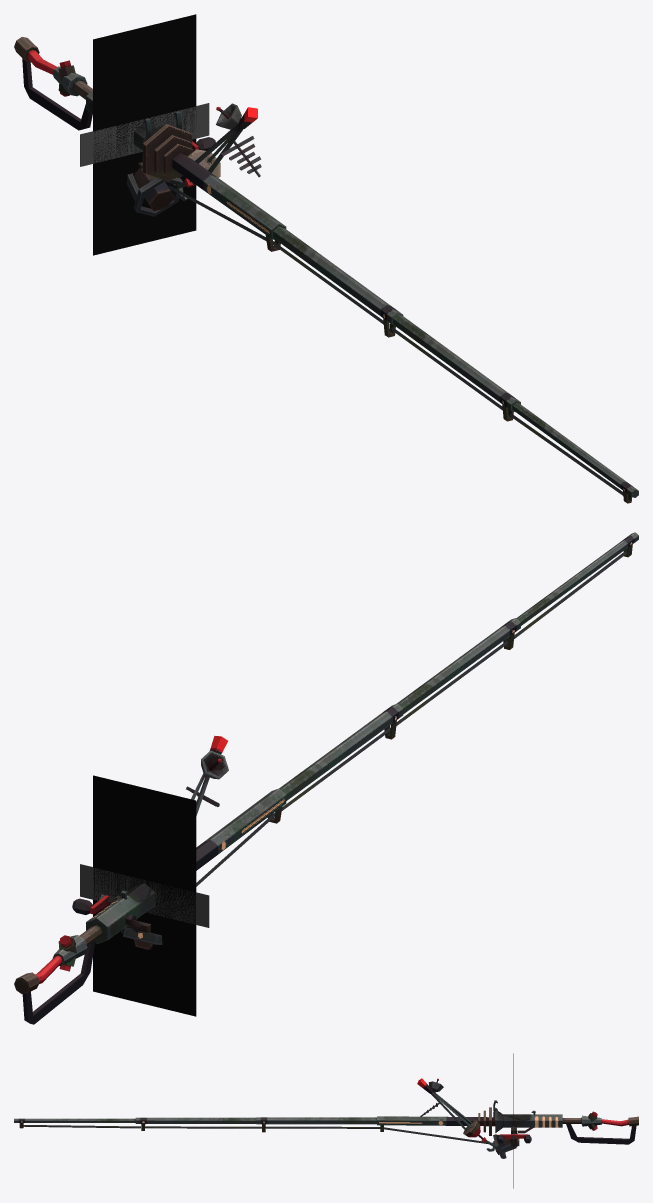
File: item_special_fishing_rod.glb
The picture shows the model from 3 angles, top to bottom: view 1: azimuth 30°, elevation 25°; view 2: azimuth 150°, elevation 25°; view 3: azimuth 270°, elevation 25°; orthographic projection. The views are drawn at different scales.
Parts seen in each view (by area): view 1: Cube (×3), Special_FishingRod_submesh_0, Special_Bobber; view 2: Cube (×4), Special_FishingRod_submesh_0, Special_Bobber; view 3: Special_FishingRod_submesh_0, Special_Bobber, Special_FishingReel.
Part boxes in pixels (x1,y1,x2,y2): Cube (×3): (80,14,209,255); Special_FishingRod_submesh_0: (14,37,638,503); Special_Bobber: (187,103,261,185); Cube (×4): (80,775,209,1016); Special_FishingRod_submesh_0: (14,532,638,1024); Special_Bobber: (186,735,228,815); Special_FishingRod_submesh_0: (14,1100,638,1158); Special_Bobber: (417,1078,480,1137); Special_FishingReel: (496,1134,531,1143).
Size of the model in its own units: 0.25 by 0.4 by 2.06.
Materials: 4 (2 with a texture image).
